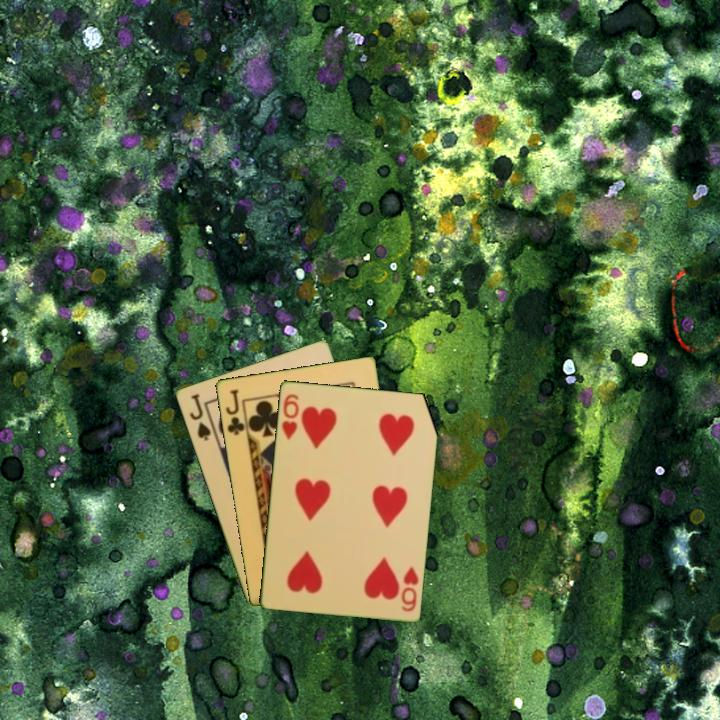6h: (278, 390, 301, 442), (398, 562, 421, 614)
Jc: (222, 385, 249, 439)
Js: (186, 390, 213, 444)
